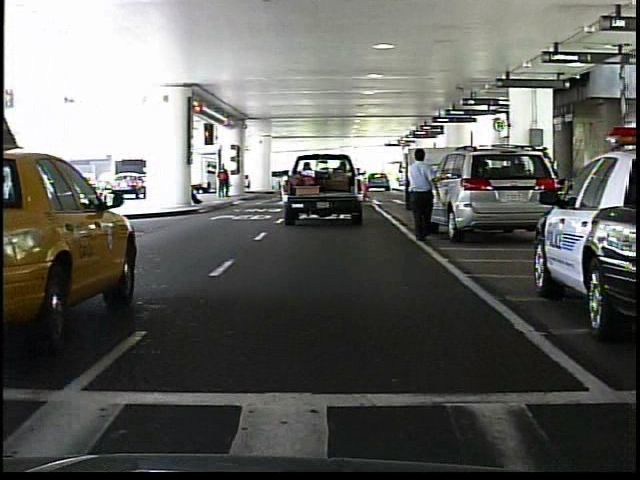person: (401, 145, 445, 241), (216, 163, 236, 201)
